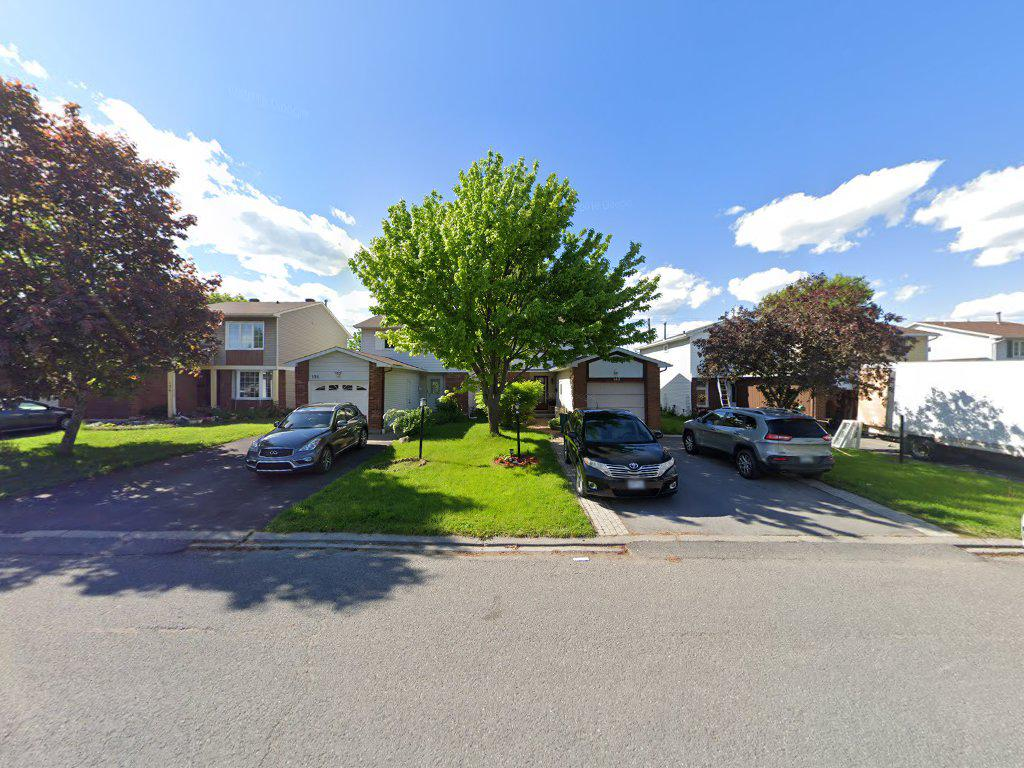trunk: (480, 368, 507, 440)
